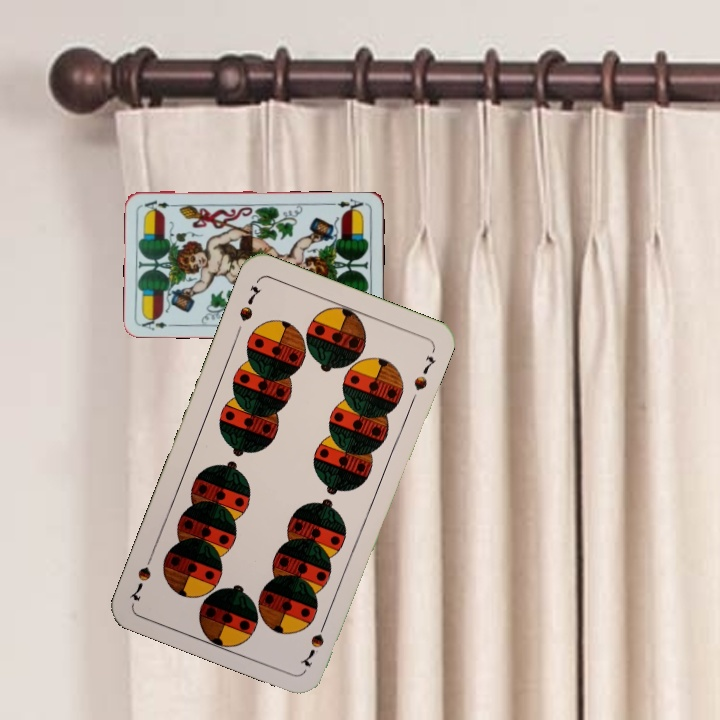EA: (138, 313, 178, 333), (328, 195, 366, 215)
S7: (296, 614, 330, 669), (235, 281, 264, 324)
